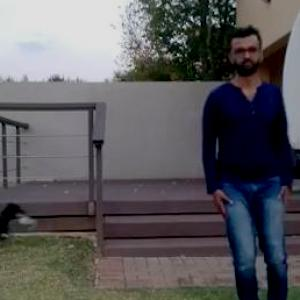follow: (187, 17, 298, 299)
